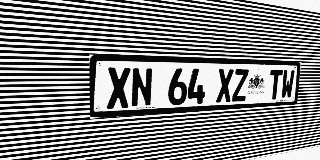4: (187, 68, 206, 104)
6: (168, 68, 188, 105)
N: (131, 68, 153, 108)
T: (268, 70, 283, 100)
W: (280, 70, 295, 99)
X: (107, 67, 130, 109), (216, 69, 234, 103)
Z: (232, 69, 249, 102)
